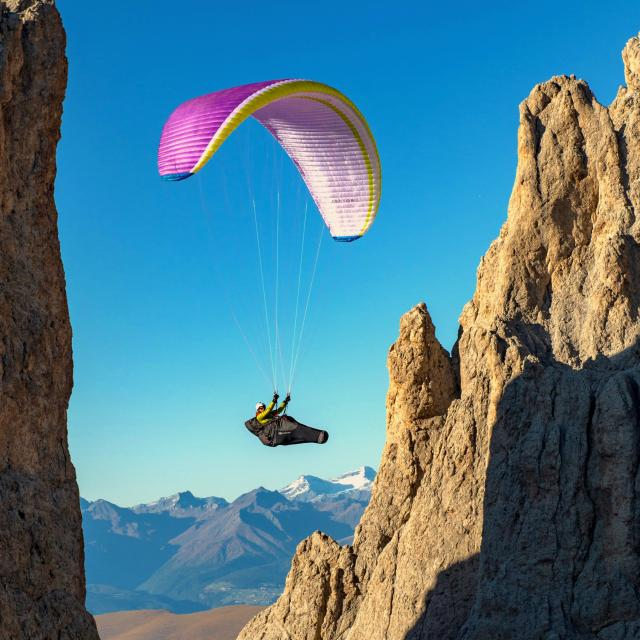paraglider: (152, 71, 404, 254)
